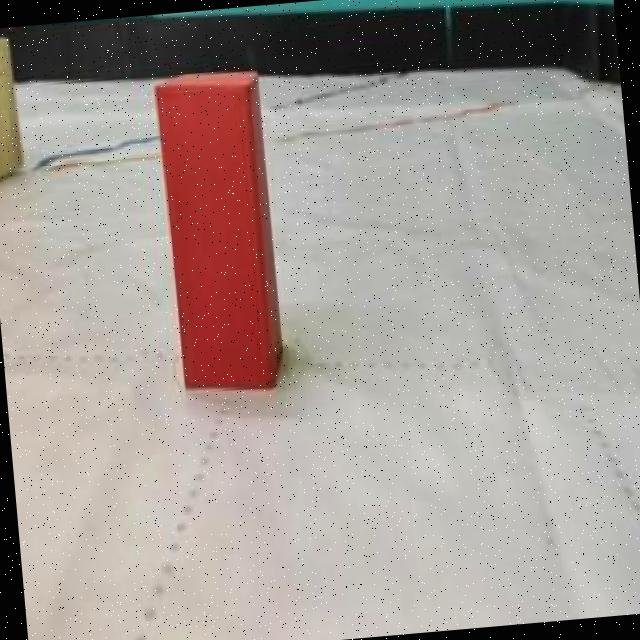redbox: (149, 64, 288, 397)
